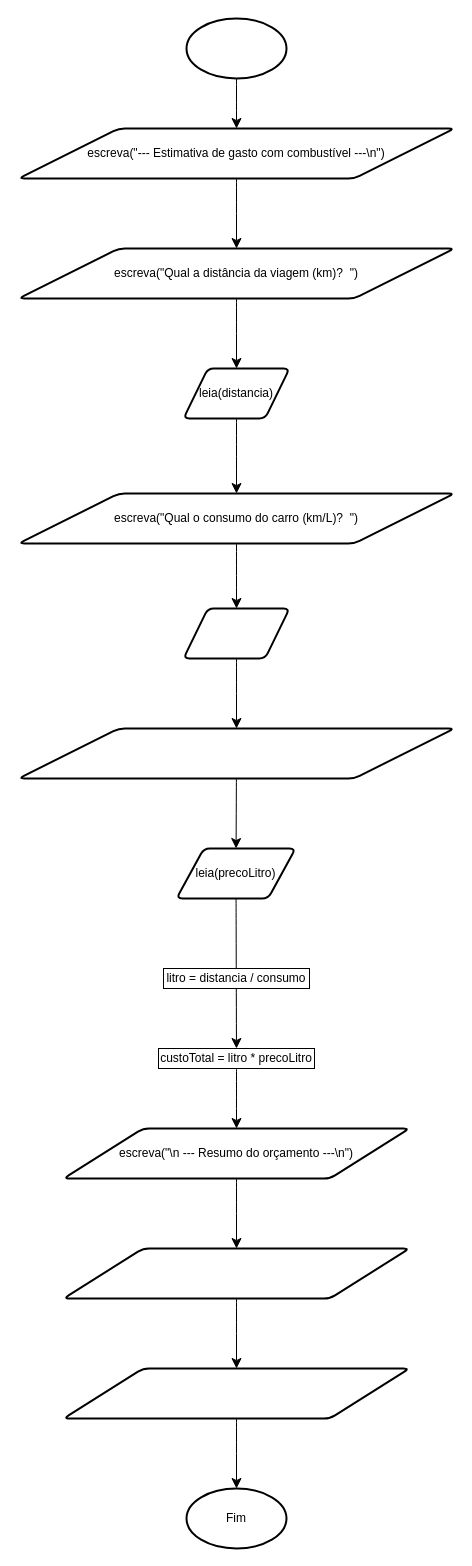
Some shapes in this 472 by 1566 pixel diagram are drawn without their labels. The centre of each missing label's shape, as x and y in pixels:
escreva("Custo total: R$", custoTotal): [236,1393]
escreva("Digite o preço do litro (R$): "): [236,753]
escreva("Litros necessários: ", litro, "L.\n"): [236,1273]
Início: [236,48]
leia(consumo): [236,633]
